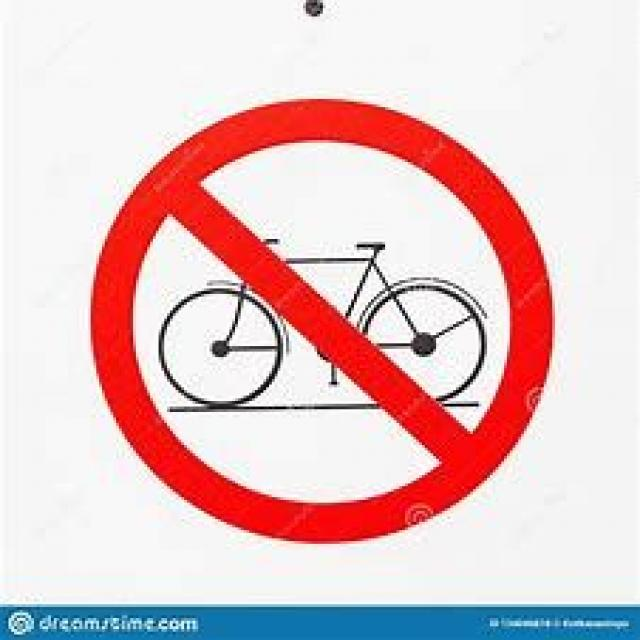CYCLE_PROHIBITED: (85, 99, 555, 541)
